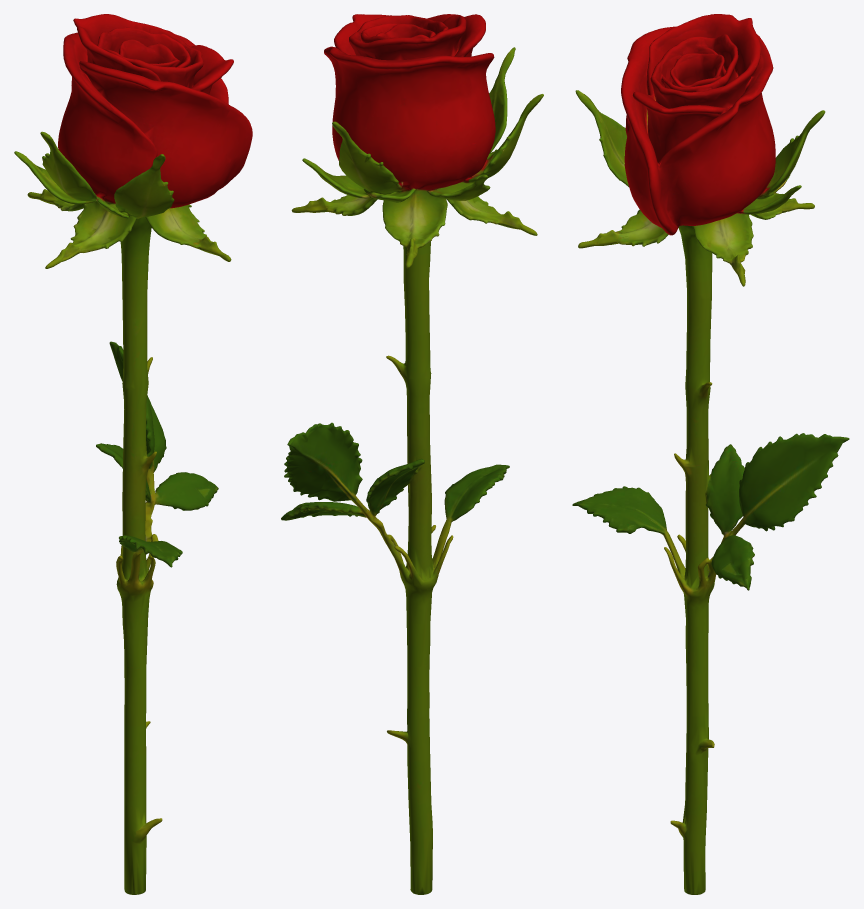
The model's file is Red Rose2.glb.
3 renders of one model, left to right at view 1: azimuth 30°, elevation 25°; view 2: azimuth 150°, elevation 25°; view 3: azimuth 270°, elevation 25°, orthographic. The views are drawn at different scales.
Visible parts, largest first — view 1: tripo_node_8d5c123f-f80b-47db-80fb-46eca3c8ee9a; view 2: tripo_node_8d5c123f-f80b-47db-80fb-46eca3c8ee9a; view 3: tripo_node_8d5c123f-f80b-47db-80fb-46eca3c8ee9a.
Part boxes in pixels (x1,y1,x2,y2): tripo_node_8d5c123f-f80b-47db-80fb-46eca3c8ee9a: (14, 14, 252, 894); tripo_node_8d5c123f-f80b-47db-80fb-46eca3c8ee9a: (281, 14, 543, 894); tripo_node_8d5c123f-f80b-47db-80fb-46eca3c8ee9a: (572, 14, 849, 894).
Size of the model in its own units: 0.2641 by 0.9999 by 0.2929.
1 material, 1 textured.
